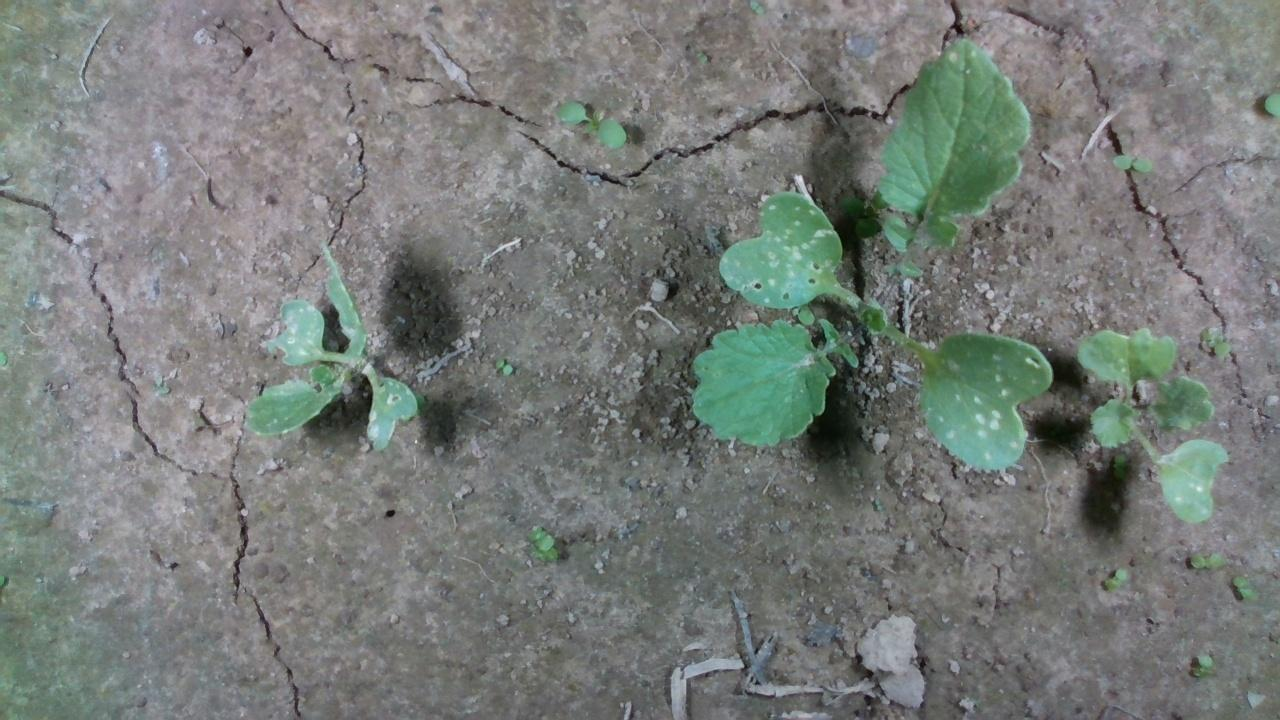weed: (549, 94, 629, 161), (1197, 320, 1236, 371), (1107, 147, 1154, 179), (1186, 647, 1224, 683), (529, 522, 557, 568), (1104, 559, 1133, 595), (486, 355, 518, 384), (1191, 546, 1222, 575), (1233, 565, 1252, 605)
